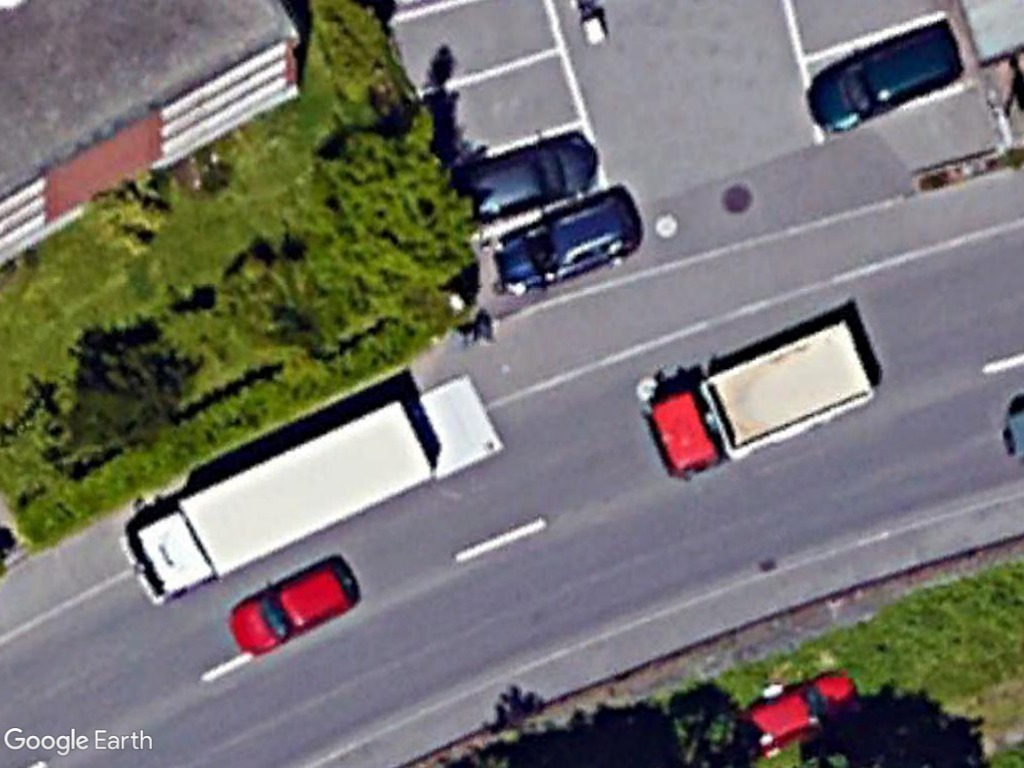car: (804, 18, 968, 139), (487, 189, 646, 295), (227, 558, 363, 660)
truck: (122, 399, 447, 612), (637, 316, 891, 485)
